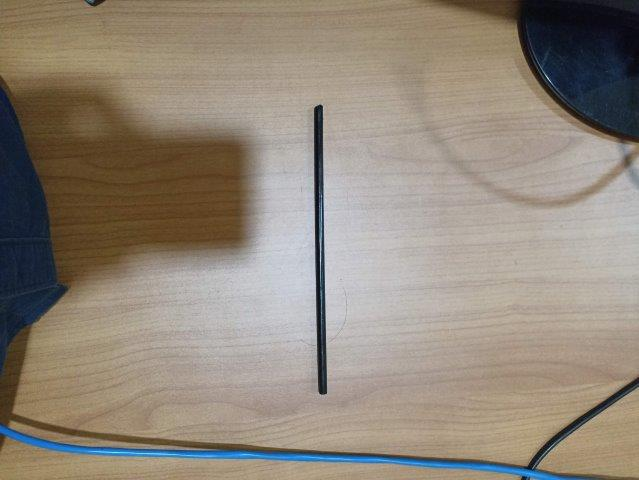sedotan: (314, 105, 328, 395)
